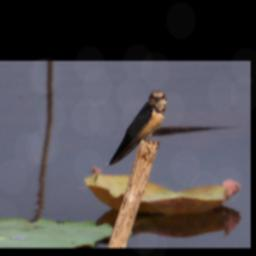Swallow: (107, 90, 168, 168)
